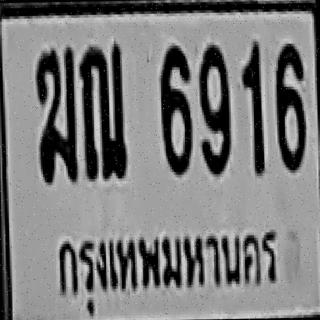A06: (34, 46, 77, 181), (35, 56, 77, 181), (35, 73, 78, 181)
A19: (79, 41, 126, 179)
N01: (240, 40, 263, 170)
N06: (158, 42, 191, 172), (274, 41, 304, 170)
N09: (197, 42, 230, 174)
P04: (50, 226, 287, 302)
